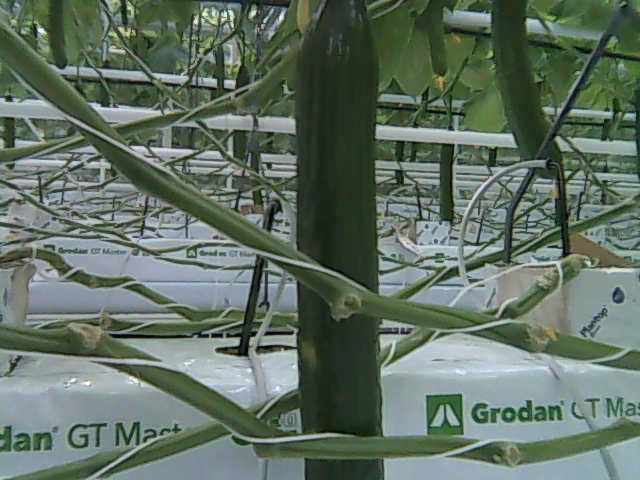concombre: (292, 1, 388, 480)
